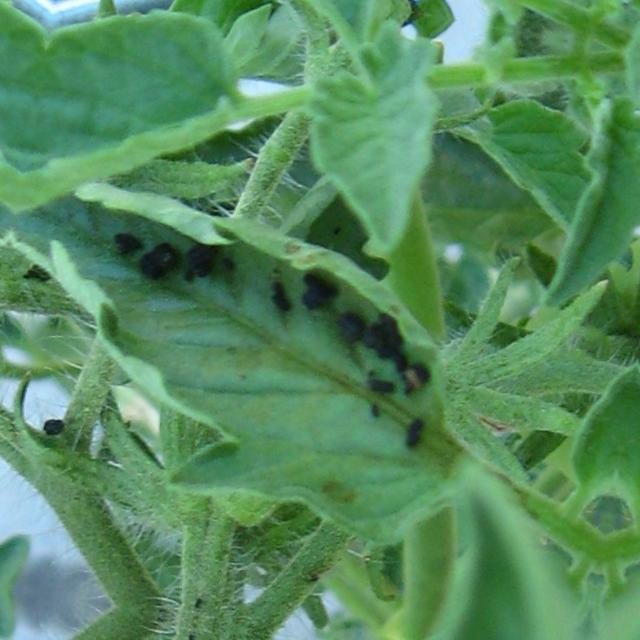Tomato leaf: (0, 0, 276, 369)
